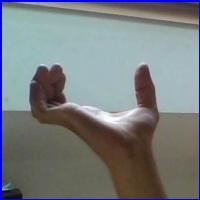B: (22, 56, 169, 163)
